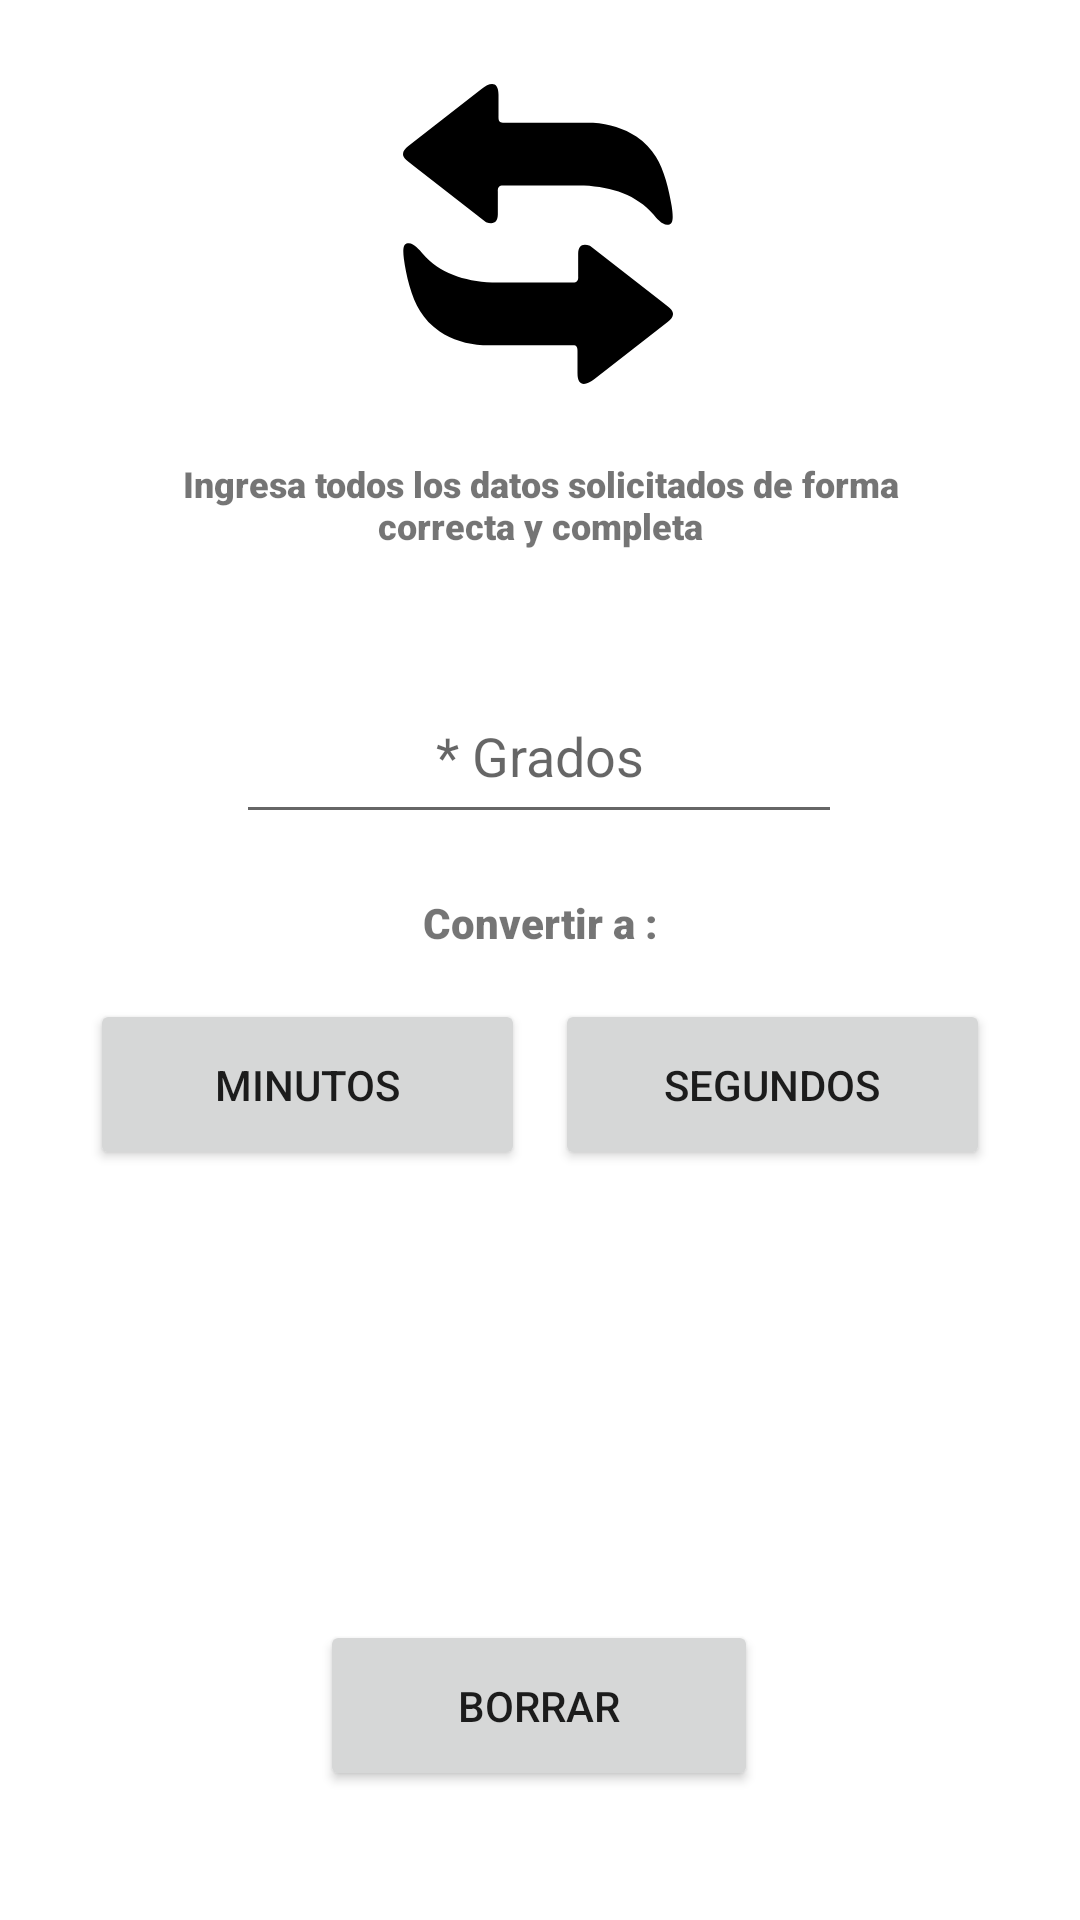

Locate icon controls on the screen. Image size 1080px x 1920px, boxes as (x1, y1, x2, y2).
convertir: (403, 84, 673, 384)
